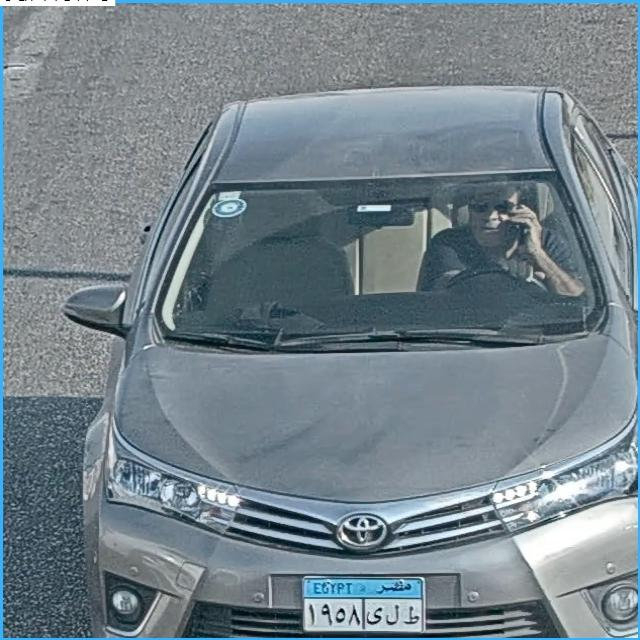windshield: (148, 182, 610, 338)
